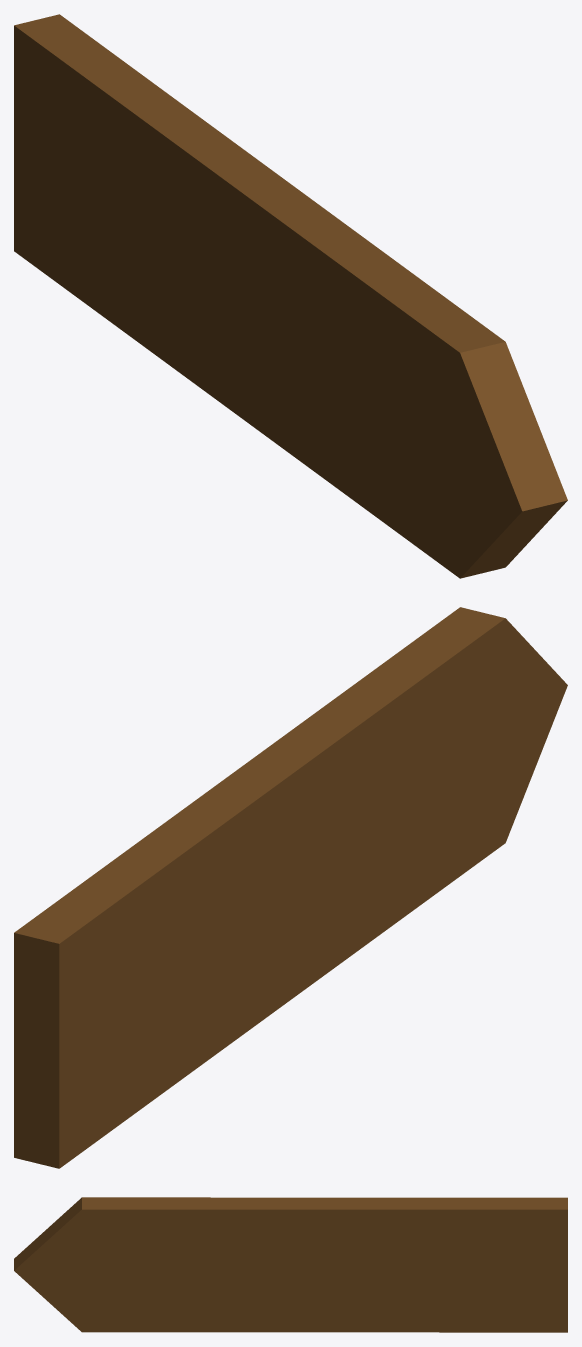
Rendered from Sign 2.fbx.
3 renders of one model, top to bottom at view 1: azimuth 30°, elevation 25°; view 2: azimuth 150°, elevation 25°; view 3: azimuth 270°, elevation 25°, orthographic. The views are drawn at different scales.
Visible parts, largest first — view 1: Sign_2; view 2: Sign_2; view 3: Sign_2.
Part boxes in pixels (x1,y1,x2,y2): Sign_2: [14, 14, 567, 578]; Sign_2: [14, 607, 567, 1168]; Sign_2: [14, 1197, 567, 1332].
Size of the model in its own units: 4.46 by 20.59 by 84.21.
1 material, 1 textured.
